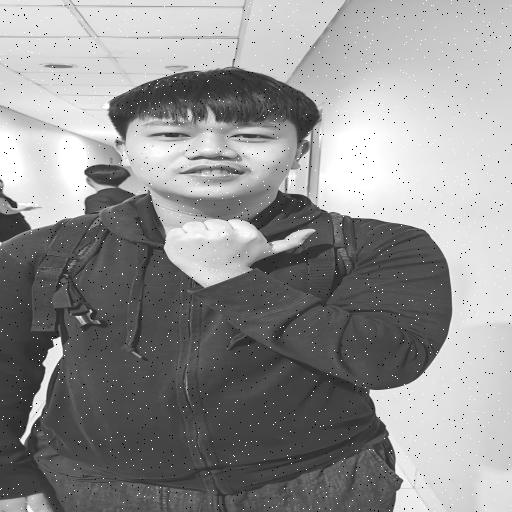back: (130, 207, 332, 289)
